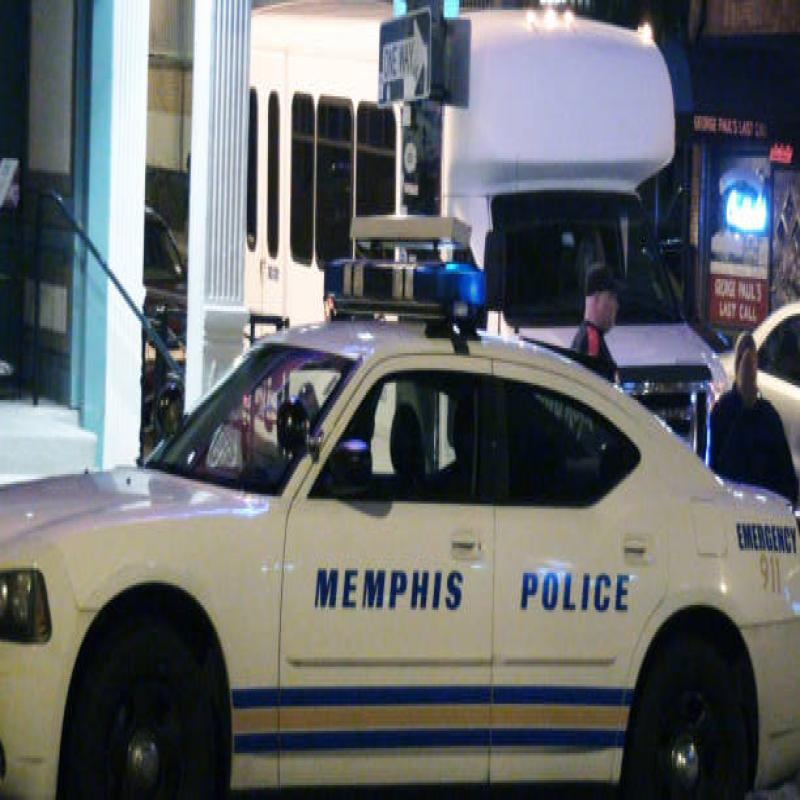AmbulanceSiren: (319, 247, 492, 340)
